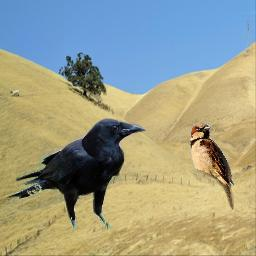Crow: (6, 118, 147, 229)
Swallow: (189, 123, 234, 210)
